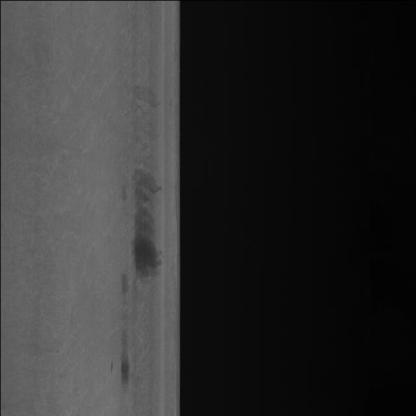oil_spot: (132, 92, 166, 284), (117, 272, 129, 388)
